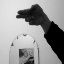h: (14, 4, 46, 27)
